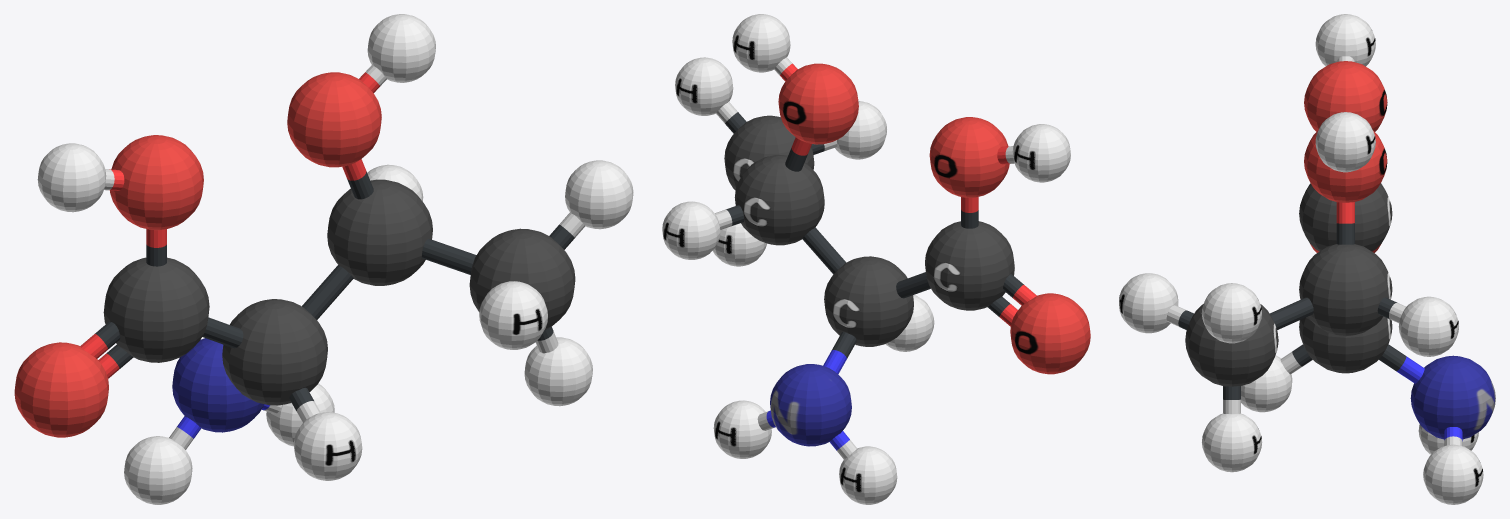
The model's file is Treonina.fbx.
3 renders of one model, left to right at view 1: azimuth 30°, elevation 25°; view 2: azimuth 150°, elevation 25°; view 3: azimuth 270°, elevation 25°, orthographic. The views are drawn at different scales.
Visible parts, largest first — view 1: Treonina; view 2: Treonina; view 3: Treonina.
Boxes of the visible parts, x1,y1,x2,y2 form: Treonina: [14, 14, 633, 504]; Treonina: [662, 14, 1090, 504]; Treonina: [1119, 14, 1495, 504].
Size of the model in its own units: 17.99 by 15.27 by 12.35.
Materials: 8 (4 with a texture image).
